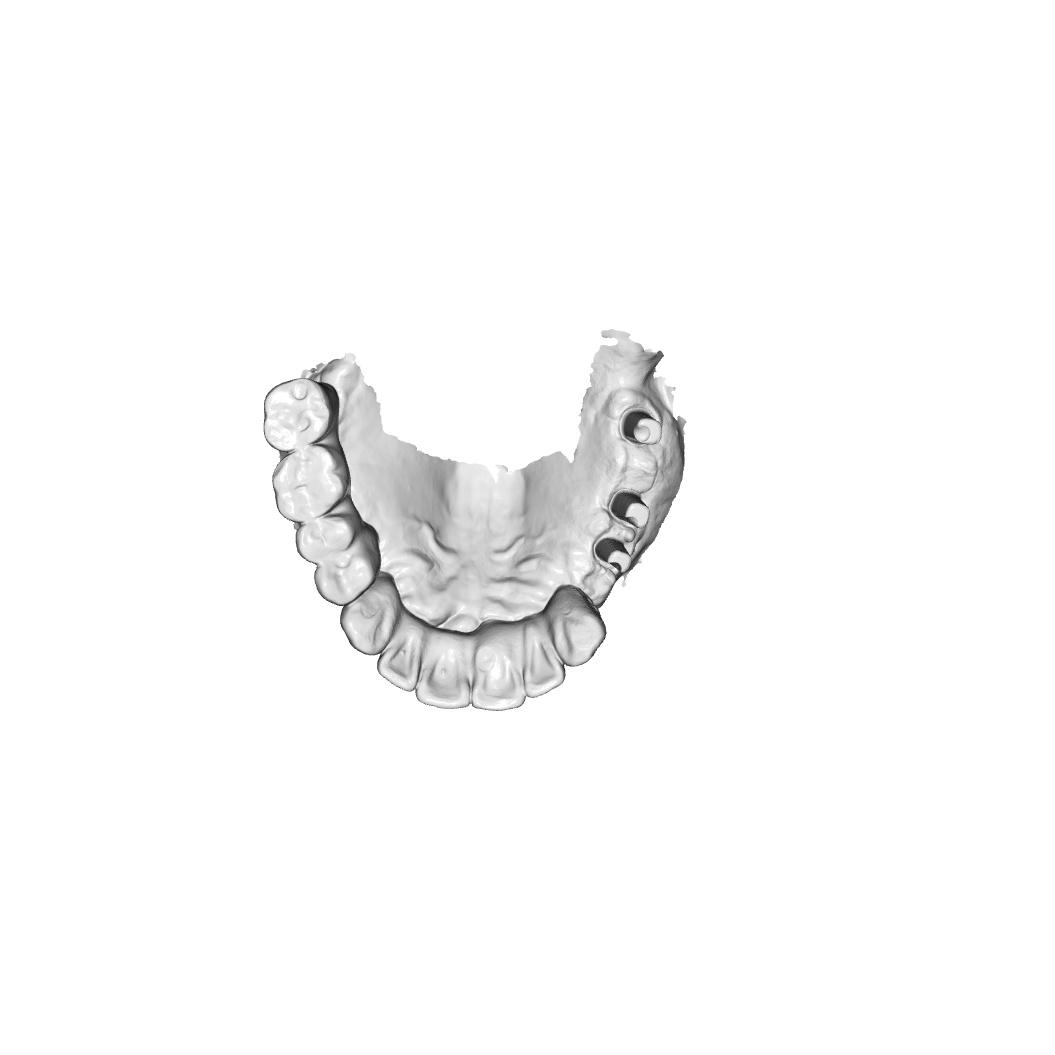abutment: (617, 406, 664, 447), (592, 534, 636, 577), (608, 487, 652, 530)
canine: (338, 578, 400, 658), (547, 598, 610, 669)
incisor: (468, 644, 527, 713), (415, 640, 471, 711), (375, 629, 423, 693), (520, 638, 566, 699)
molar: (271, 443, 354, 525), (261, 375, 332, 453)
premolar: (312, 539, 382, 608), (293, 512, 359, 565)
